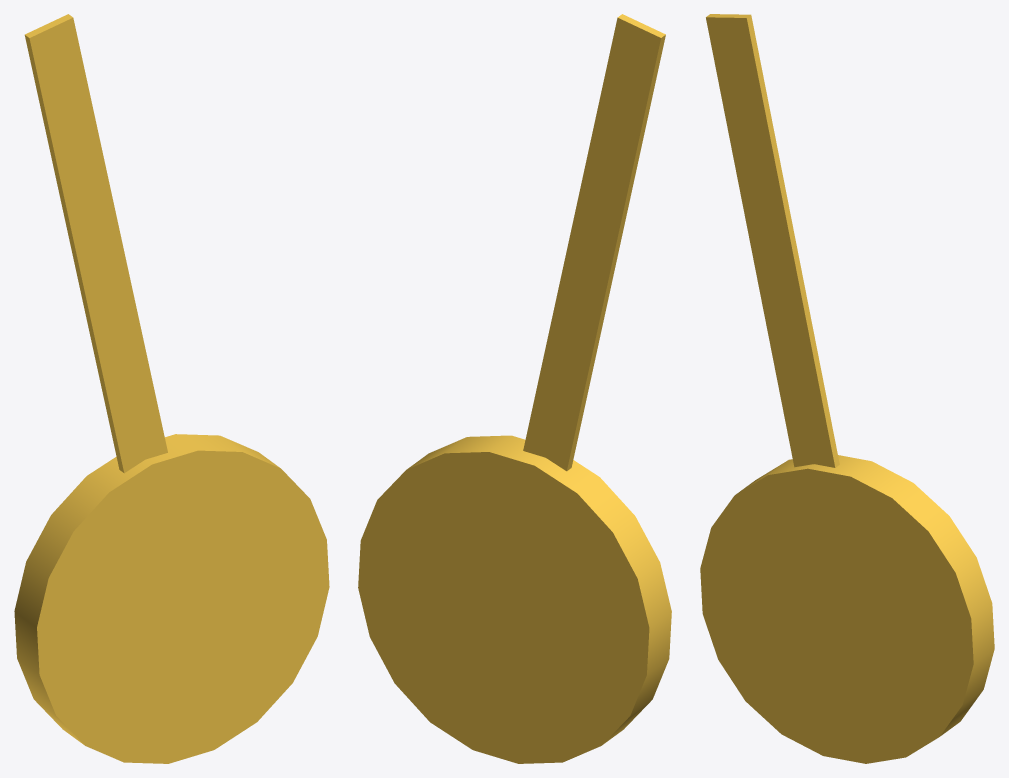
Rendered from clockmovement.fbx.
3 renders of one model, left to right at view 1: azimuth 30°, elevation 25°; view 2: azimuth 150°, elevation 25°; view 3: azimuth 330°, elevation 25°, orthographic. The views are drawn at different scales.
Visible parts, largest first — view 1: clockdanglingthing; view 2: clockdanglingthing; view 3: clockdanglingthing.
Part boxes in pixels (x1=…): clockdanglingthing: x1=14, y1=14, x2=329, y2=763; clockdanglingthing: x1=358, y1=14, x2=671, y2=763; clockdanglingthing: x1=700, y1=14, x2=994, y2=763.
Bounding box in the file's own units: 1.03 × 2.56 × 0.1369.
